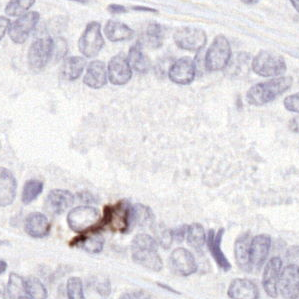Lymphocyte: (71, 203, 129, 240)
